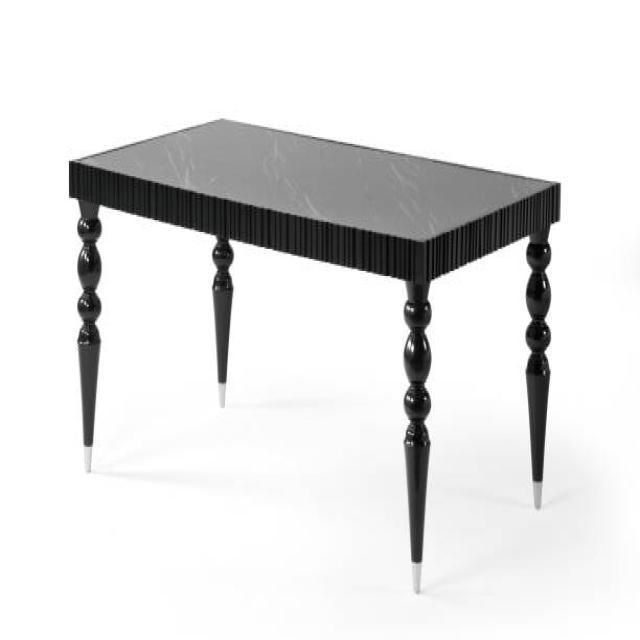table: (68, 115, 562, 594)
